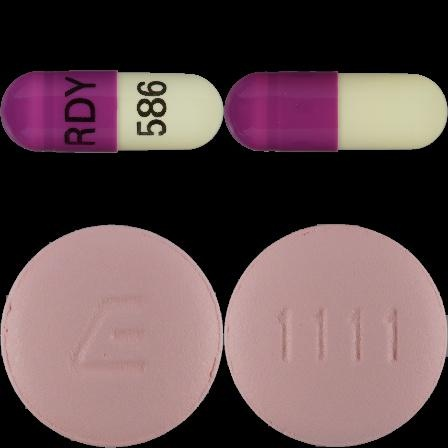54868-6297: (0, 0, 224, 224)
